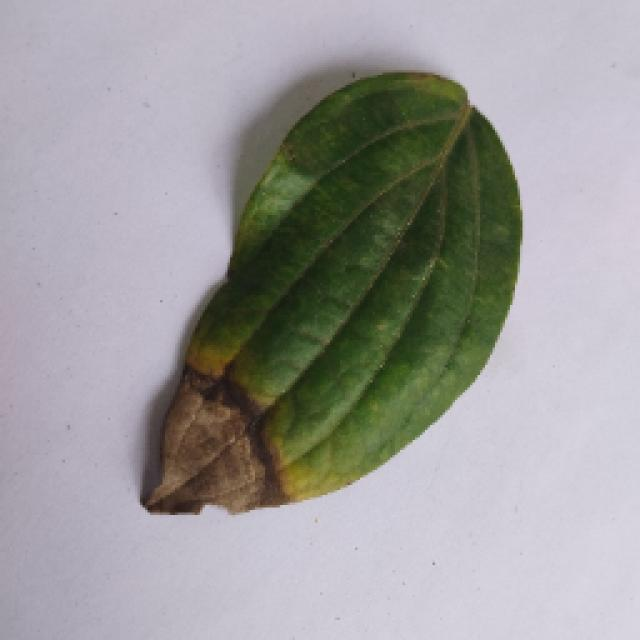footrot: (122, 65, 540, 517)
